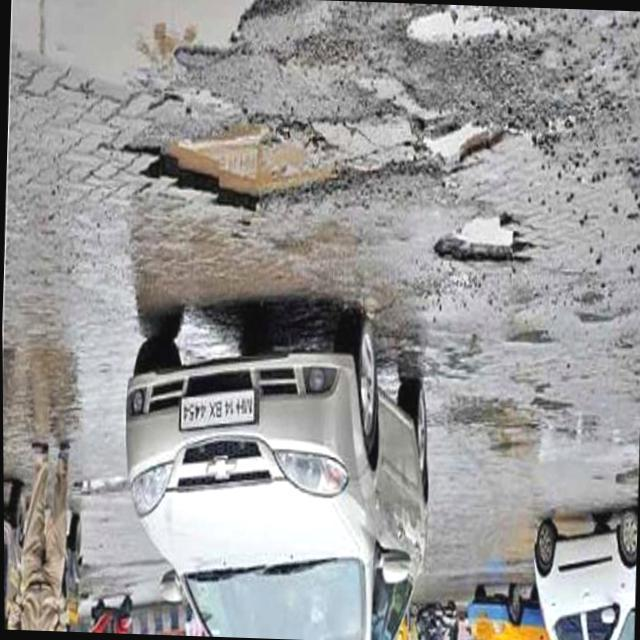Potholes: (12, 3, 257, 85), (140, 109, 341, 202), (417, 102, 496, 167), (446, 208, 526, 272)
